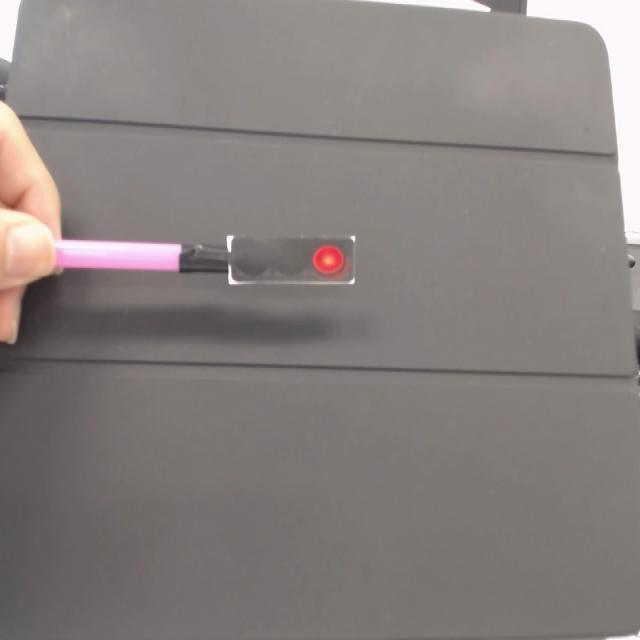traffic light: (224, 235, 356, 288)
